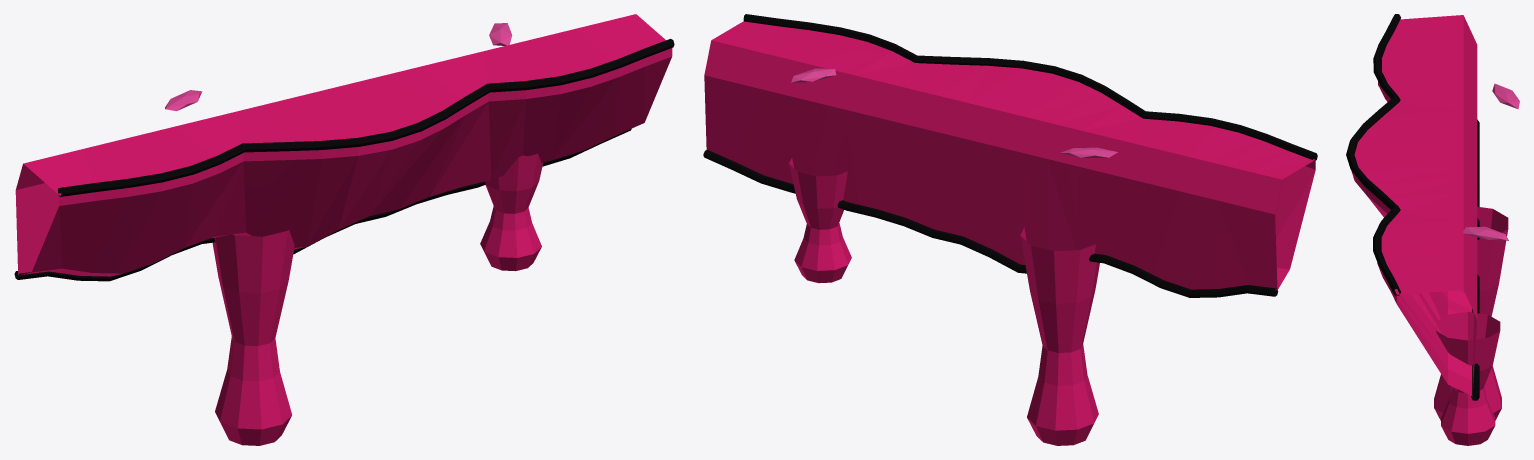
File: AlienV2_Run_Slime_A.fbx
3 views of the same model, side by side, from view 1: azimuth 30°, elevation 25°; view 2: azimuth 150°, elevation 25°; view 3: azimuth 270°, elevation 25° (orthographic). The views are drawn at different scales.
Visible parts, largest first — view 1: AlienV2_Run_Slime_A; view 2: AlienV2_Run_Slime_A; view 3: AlienV2_Run_Slime_A.
Part boxes in pixels (box(x1,y1,x2,y2)): AlienV2_Run_Slime_A: box(14, 14, 674, 445); AlienV2_Run_Slime_A: box(703, 14, 1317, 445); AlienV2_Run_Slime_A: box(1346, 14, 1519, 445).
Size of the model in its own units: 1 by 0.5286 by 0.2672.
